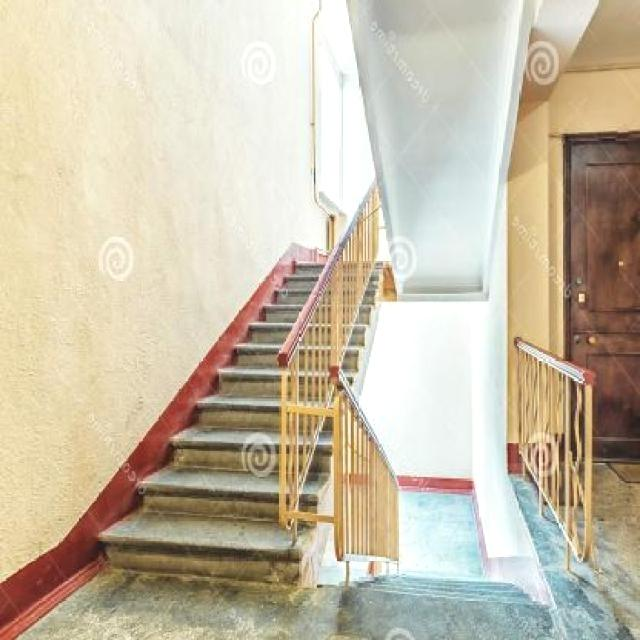stair: (74, 148, 383, 595), (343, 496, 540, 640)
